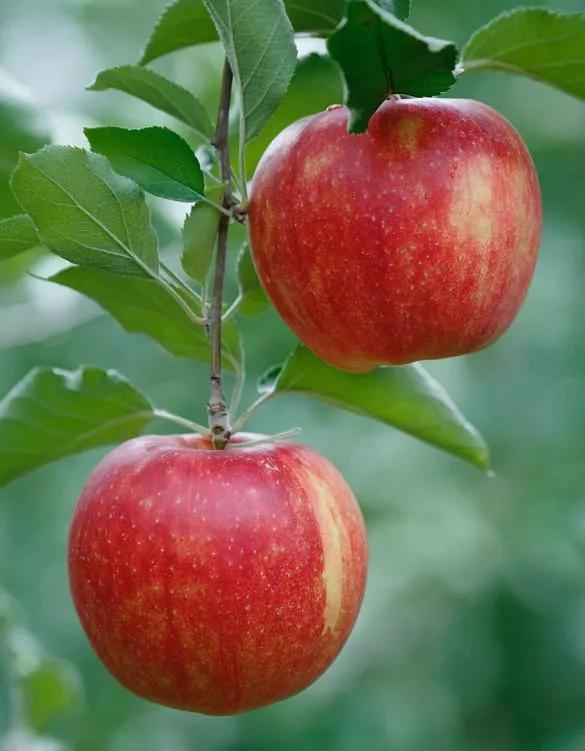apple: (68, 417, 385, 729), (240, 81, 540, 370)
